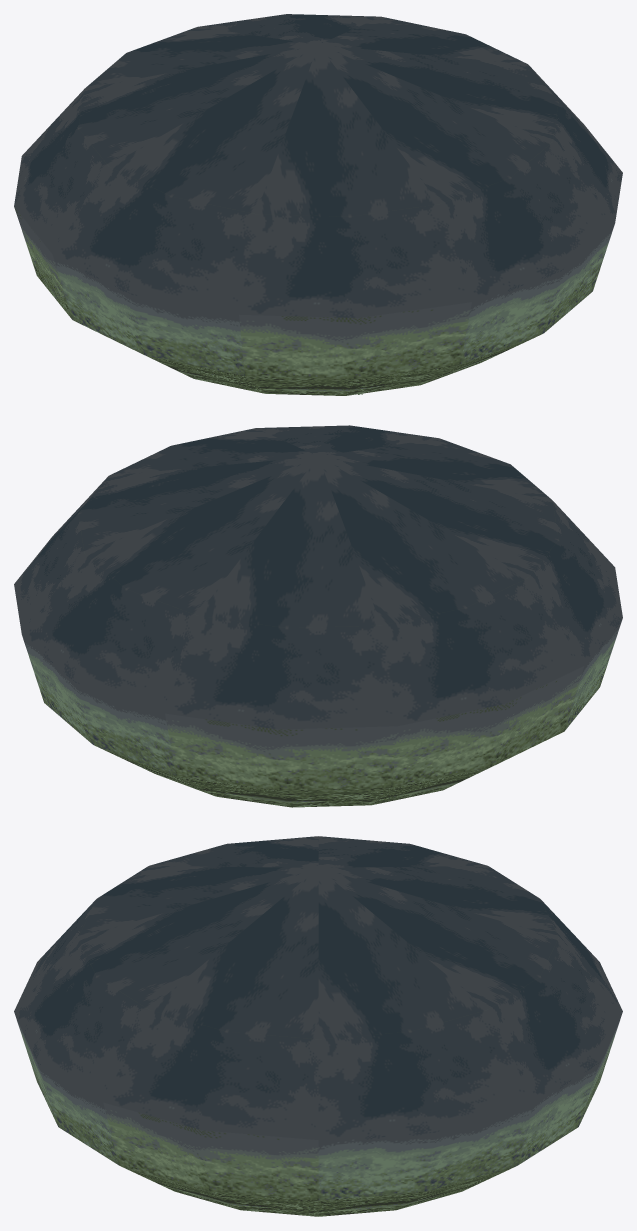
3 renders of one model, top to bottom at view 1: azimuth 30°, elevation 25°; view 2: azimuth 150°, elevation 25°; view 3: azimuth 270°, elevation 25°, orthographic.
Bounding box in the file's own units: 61154 × 33625 × 61153.
Materials: 23 (22 with a texture image).
